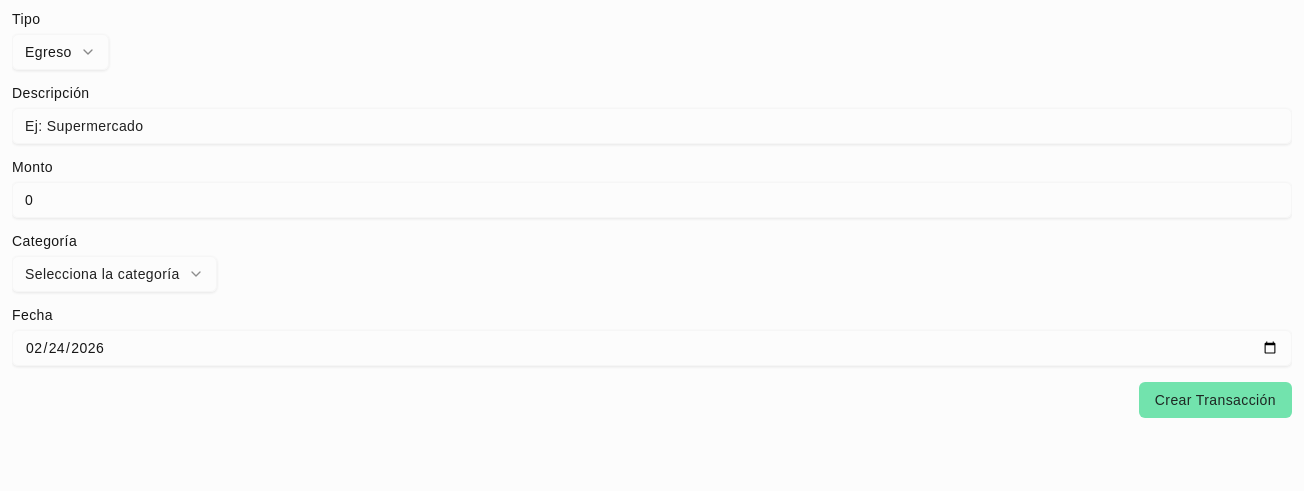
Test: TransactionForm › Validación de formulario › debe mostrar error cuando la fecha no está seleccionada
In the field with placeholder "Ej: Supermercado": (652, 126) [12,108,1292,144], type "Test"
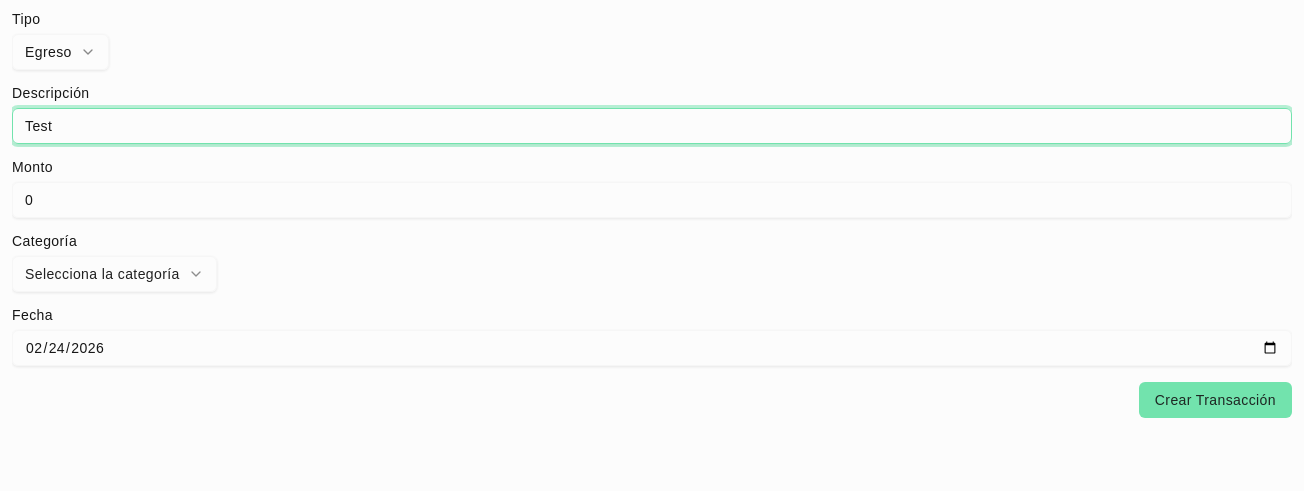
Replace the text in the number field with placeholder "0.00" with "100": (652, 200) [12,182,1292,218]
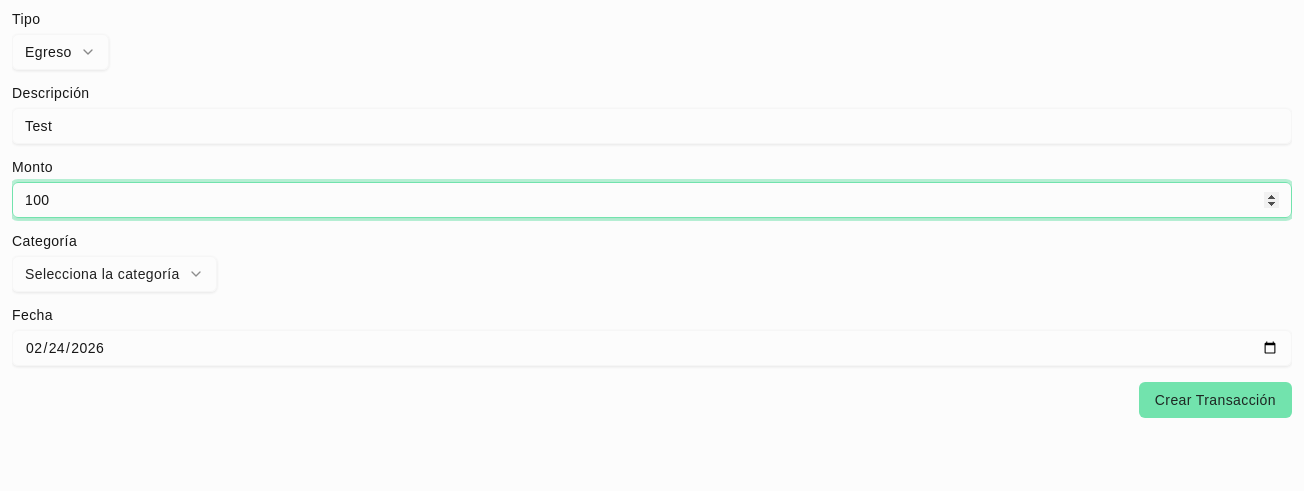
Clear the date field labelled "Fecha": (652, 348) [12,330,1292,366]
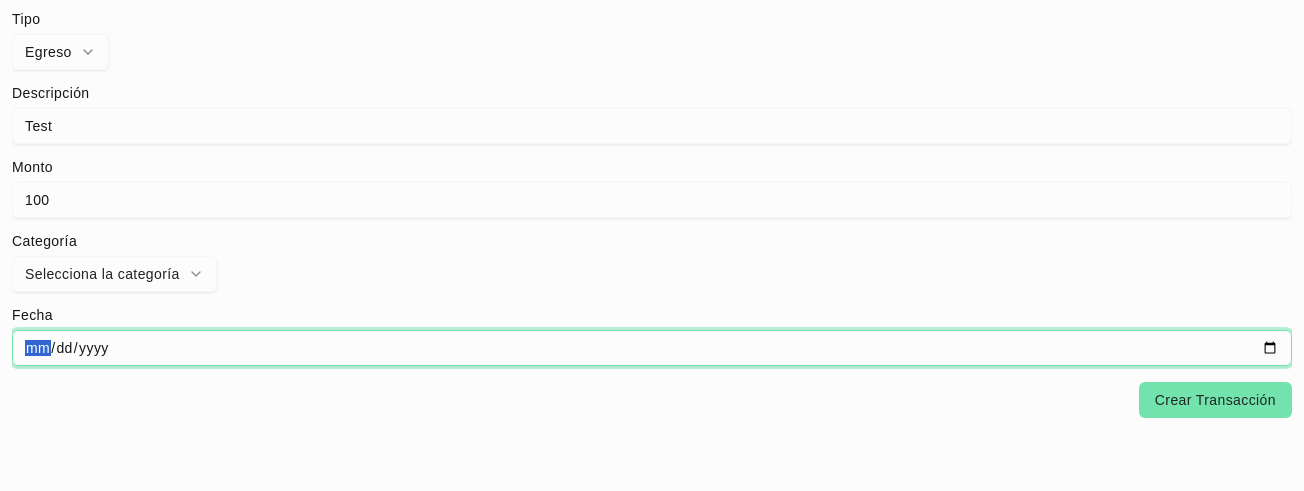
Click the button "Crear Transacción": (1215, 400) [1139,382,1292,418]
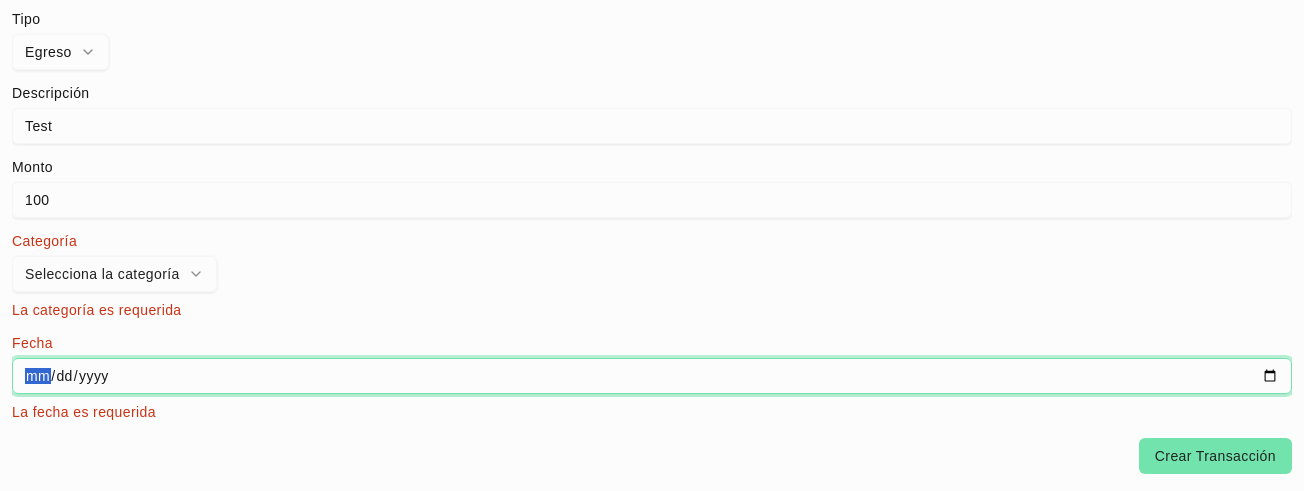
Expected: the text "La fecha es requerida" is shown, [12,404,156,420]
